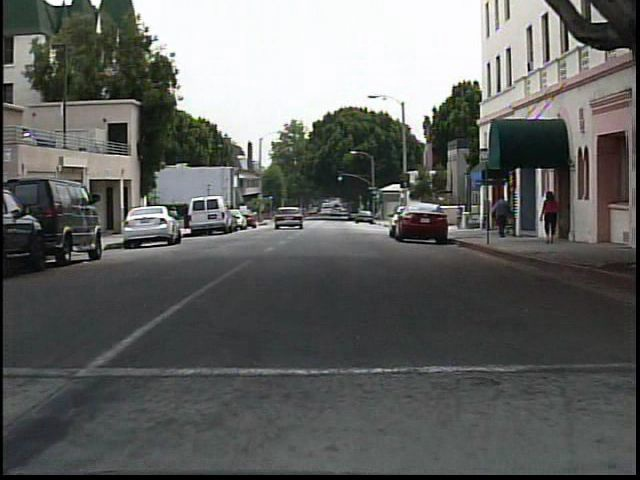person: (539, 187, 563, 245), (489, 192, 514, 240), (164, 200, 182, 235)
